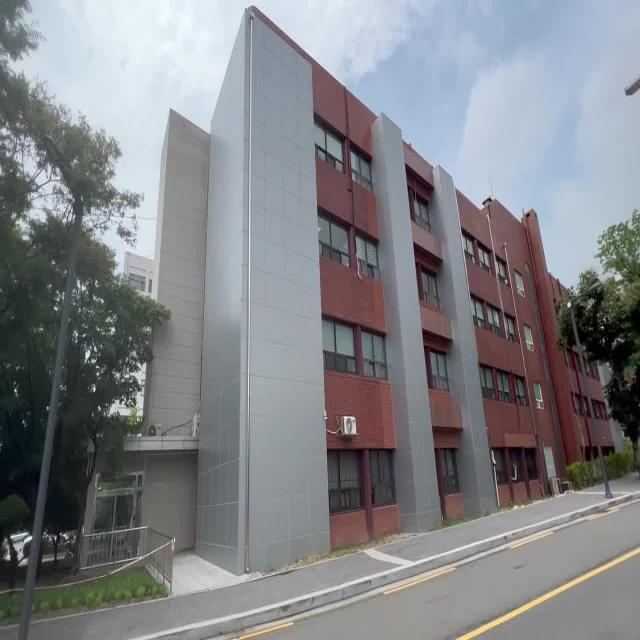building: (222, 41, 561, 514)
